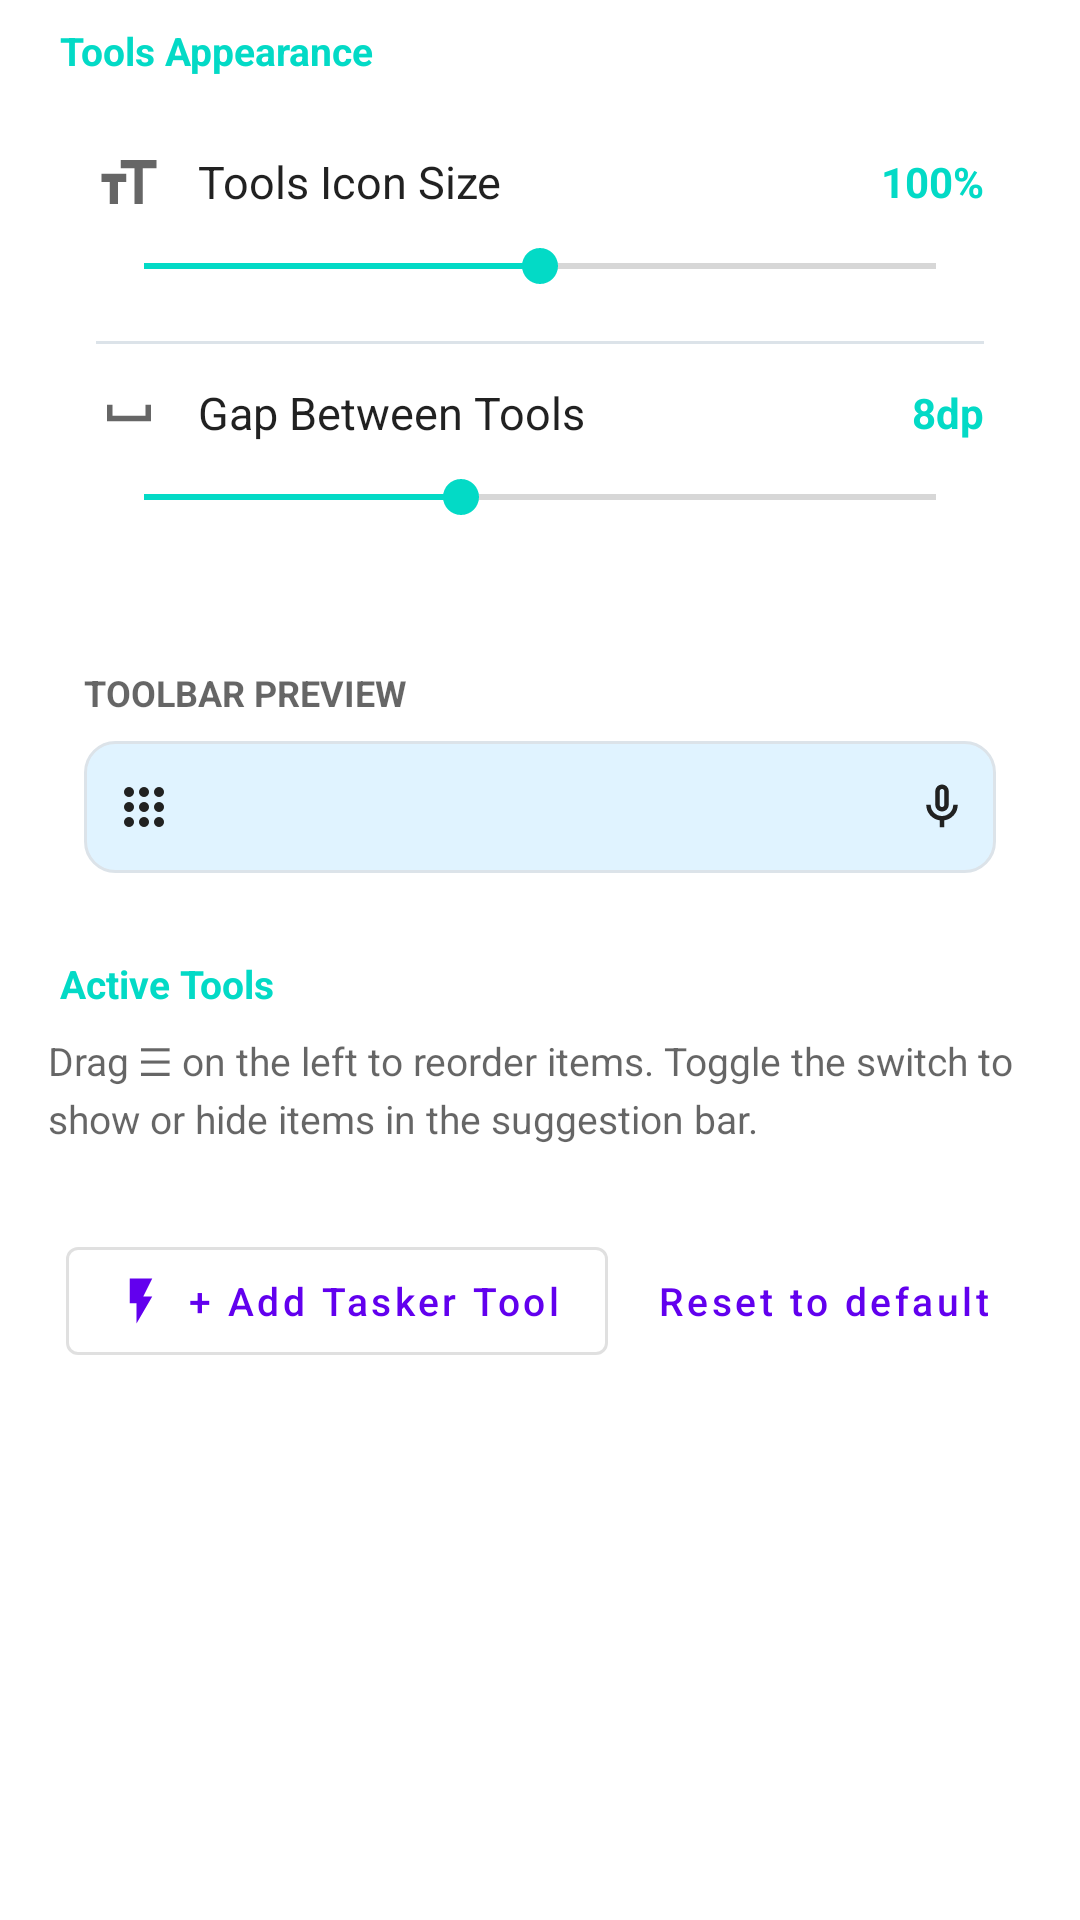

Locate icon controls on the screen. Image size 1080px x 1920px, boxes as BBox(x1, y1, x2, y2).
grid menu: BBox(124, 787, 164, 827)
lable size: BBox(101, 160, 157, 204)
margin: BBox(107, 404, 151, 422)
mic: BBox(926, 784, 958, 828)
